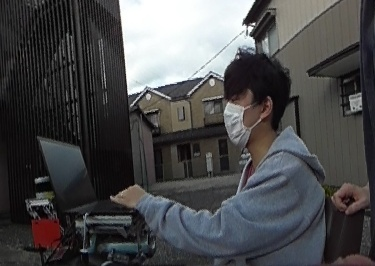person: (199, 50, 331, 266)
